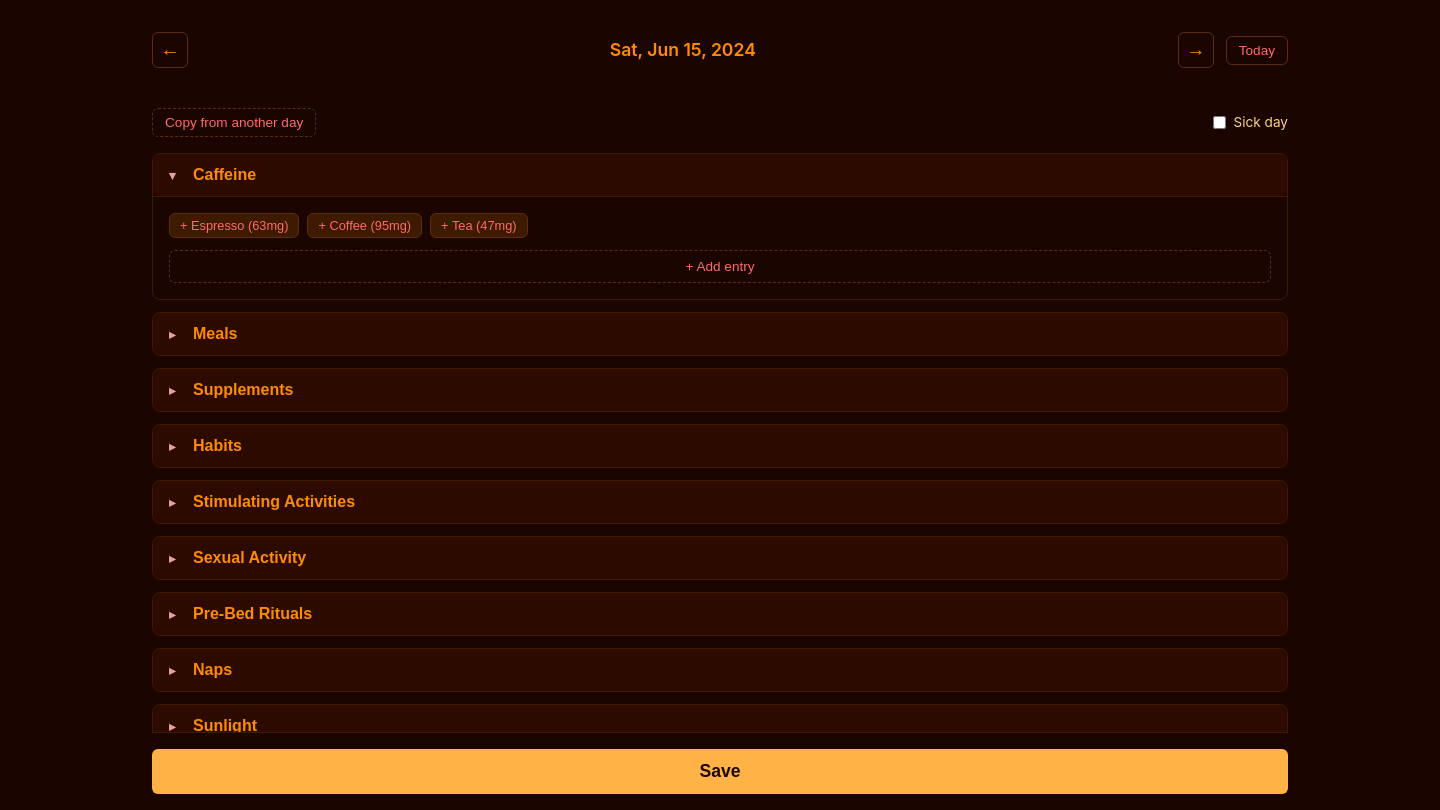
Test: DailyLogPage › shows Saved ✓ after a successful save and clears it on edit
Click the button "Save" at [720, 772], box [152,749,1288,794]
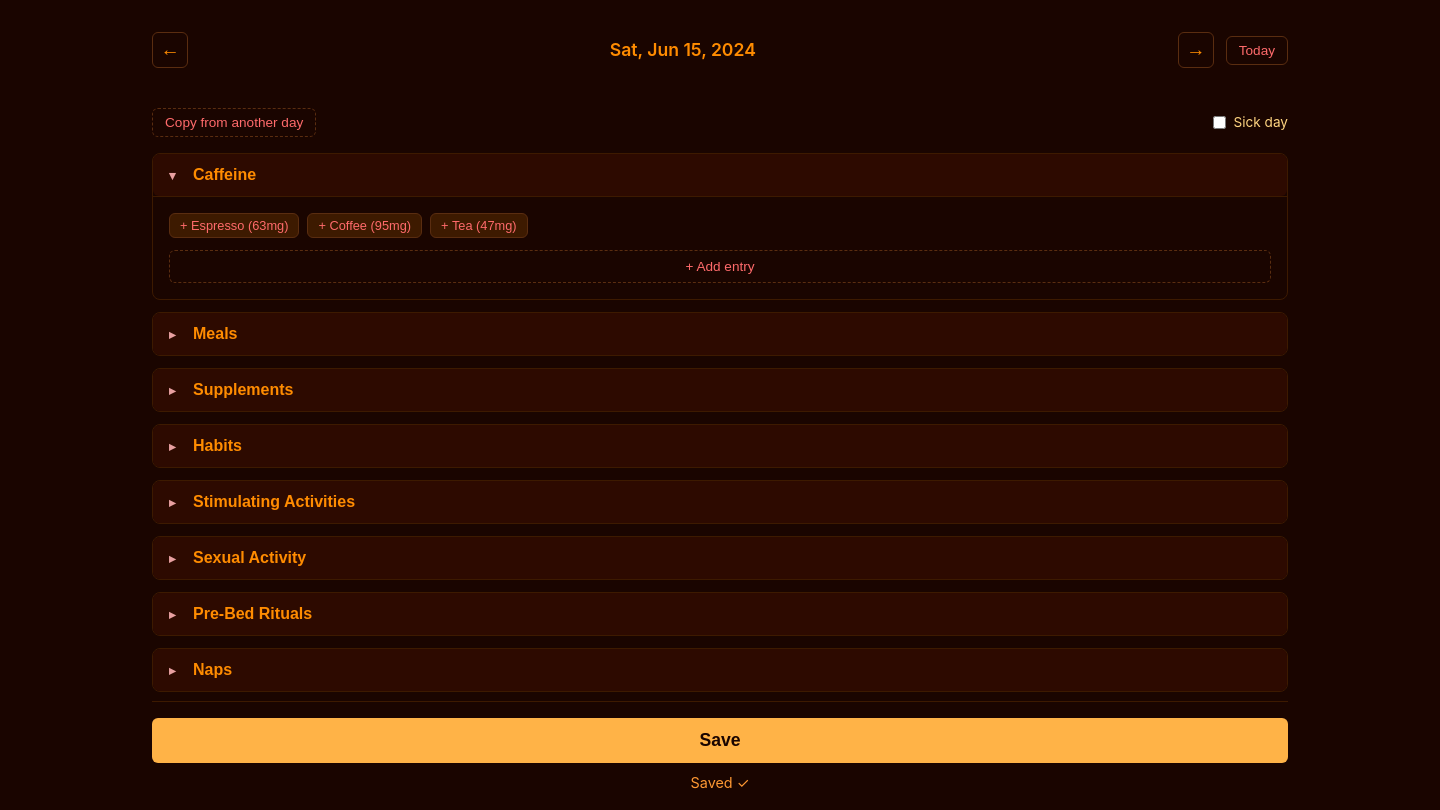
expect the message reads "Saved ✓": met, box [690,774,749,791]
Note: Any edit invalidates the confirmation
Click the checkbox labelled "Sick day" at [1219, 122], box [1212,116,1226,129]
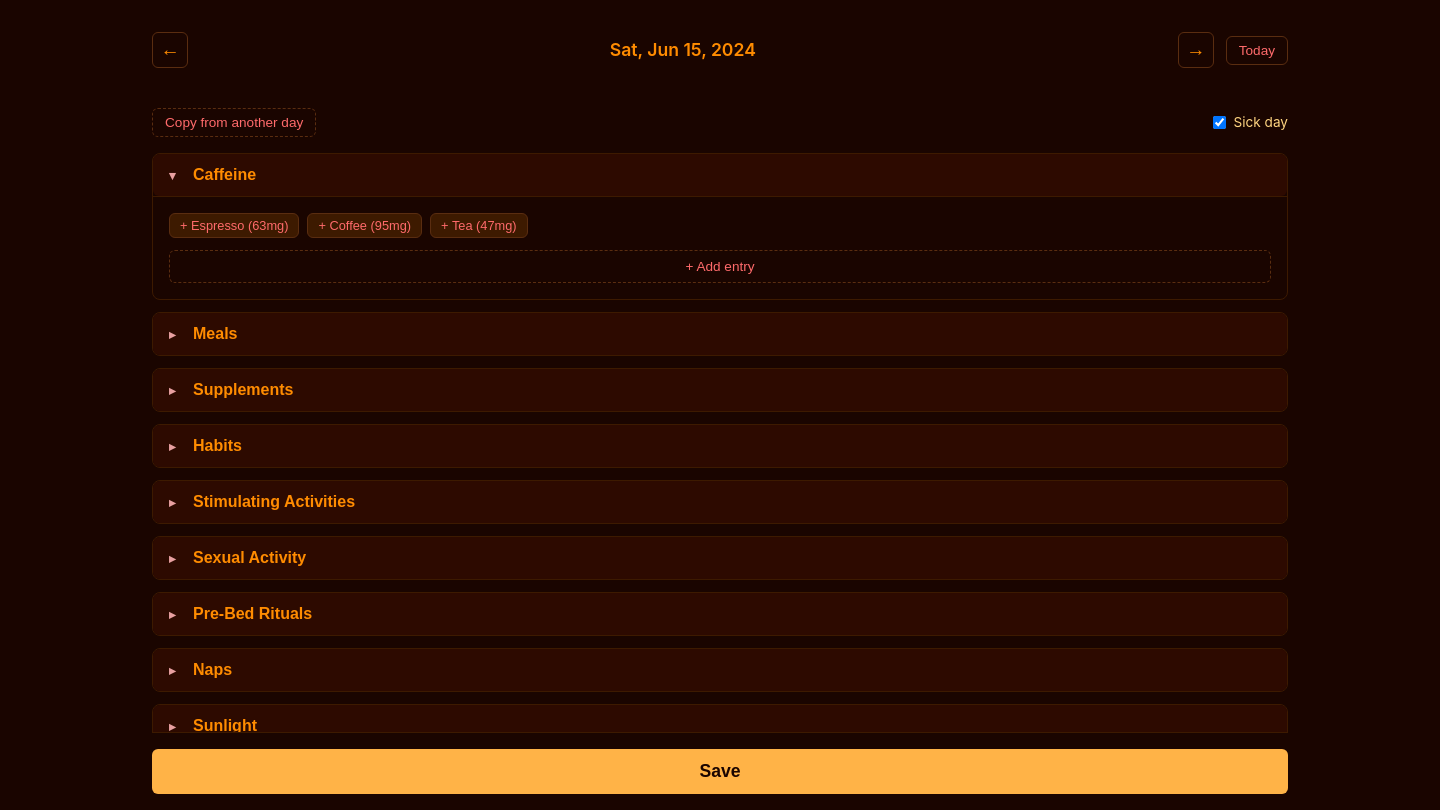
expect the message "Saved ✓" is gone: met
